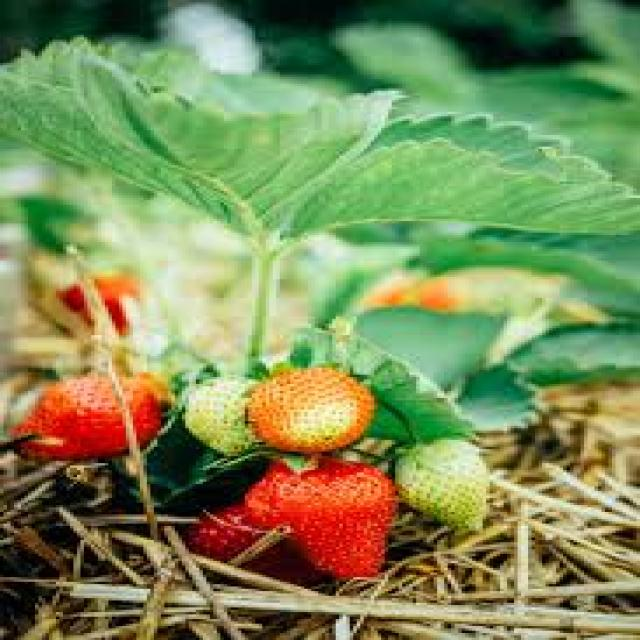strawberry: (233, 452, 413, 582)
